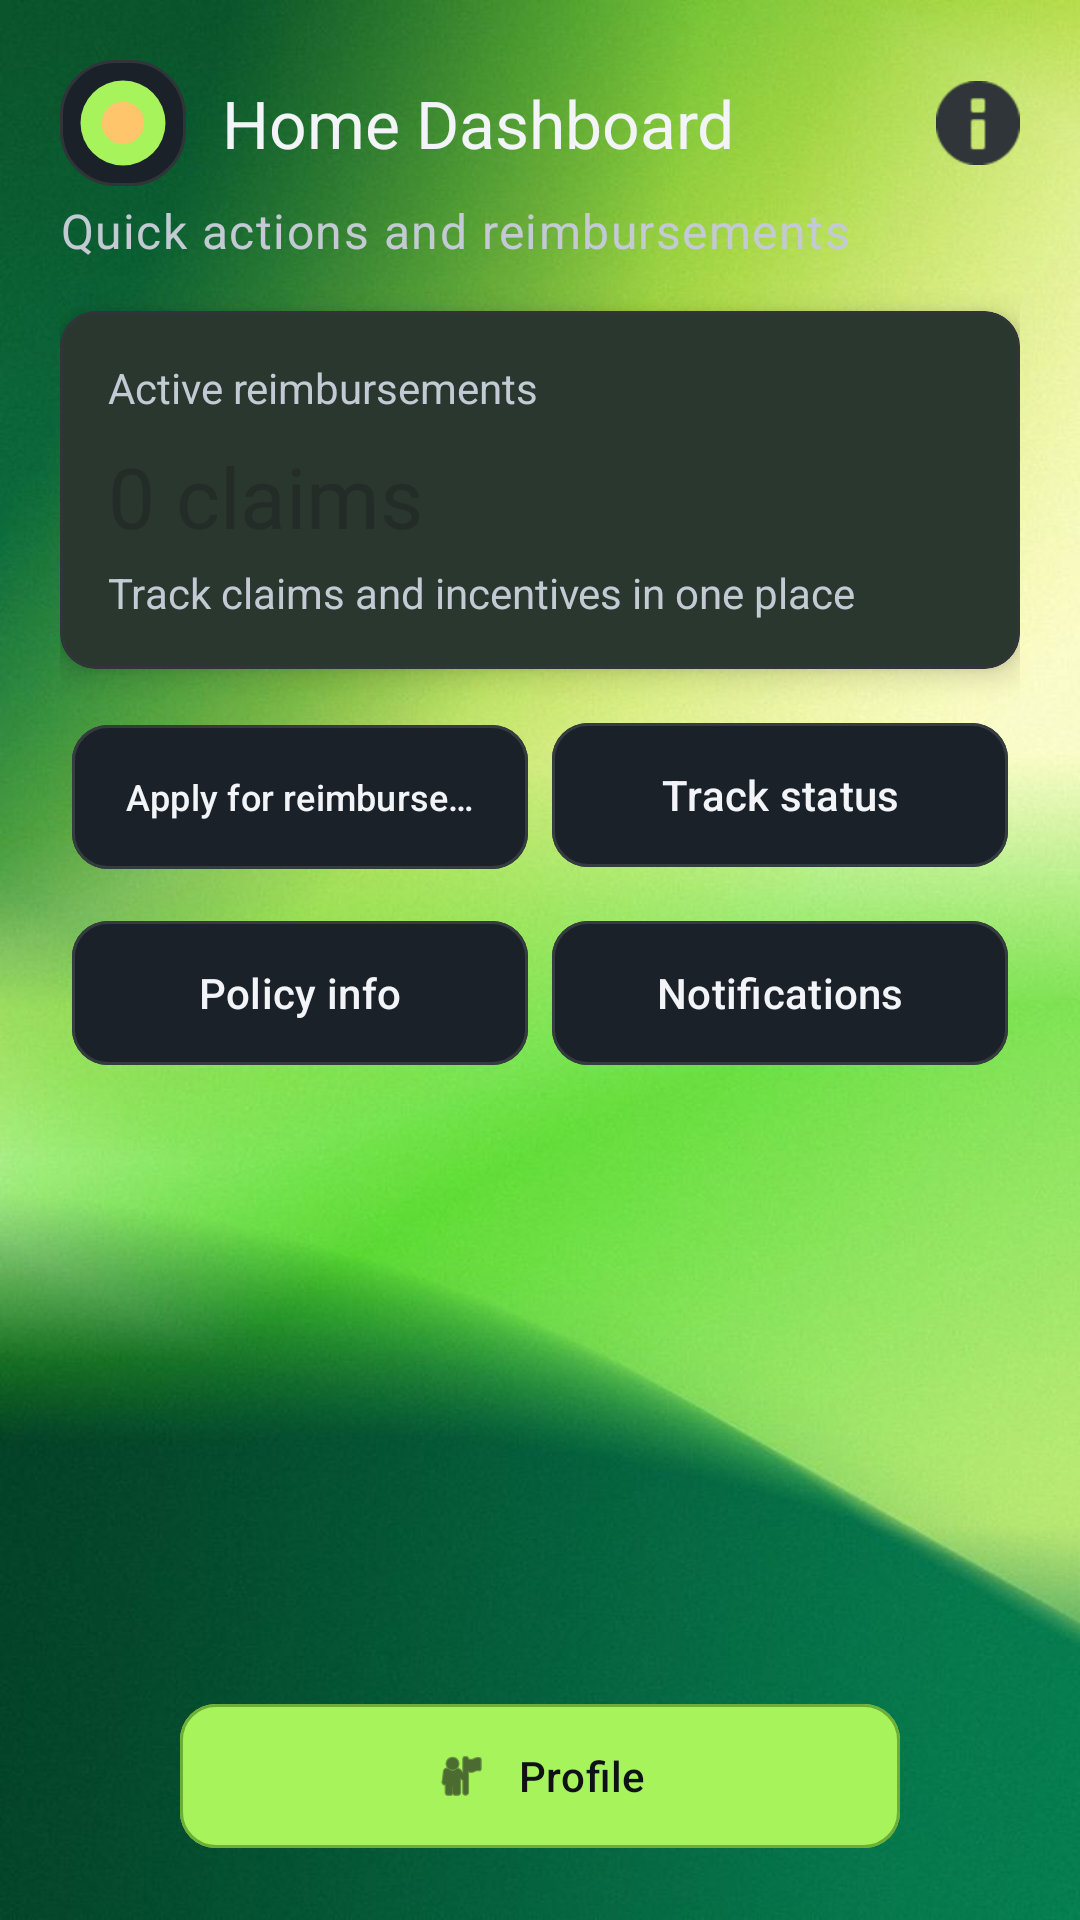

Named icons in this screenshot (1080px×1920px) and their bounding boxes, (x1, y1, x2, y2):
About this app: (936, 81, 1020, 165)
